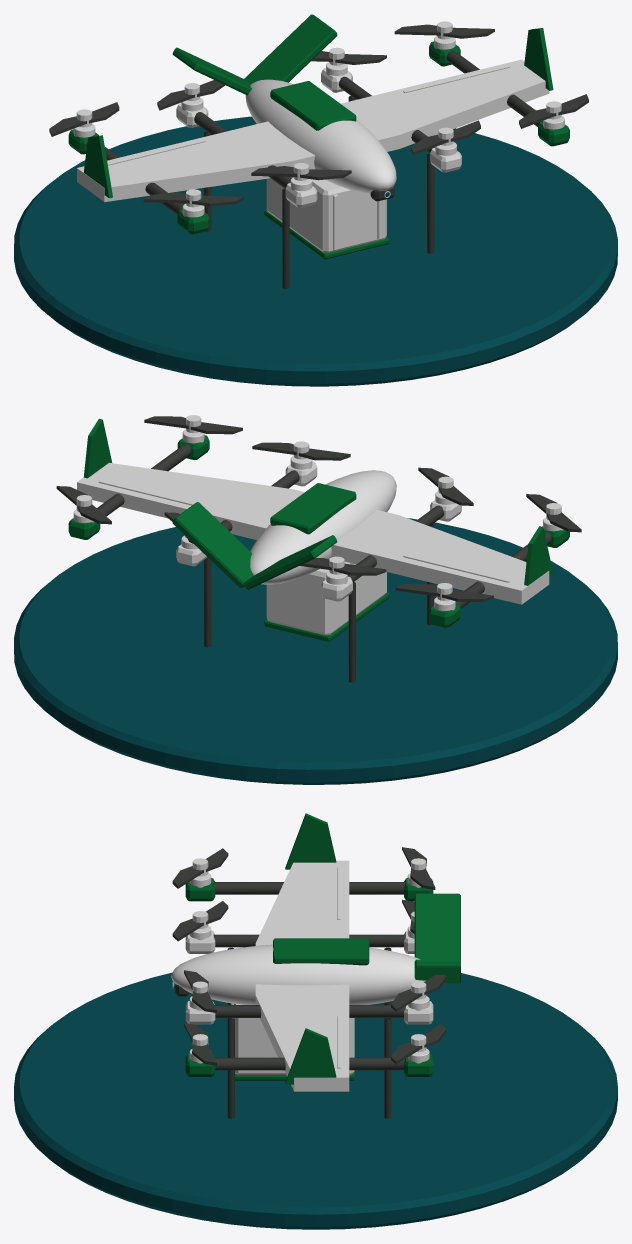
File: wingcopter-198.glb
The picture shows the model from 3 angles, top to bottom: view 1: azimuth 30°, elevation 25°; view 2: azimuth 150°, elevation 25°; view 3: azimuth 270°, elevation 25°; orthographic projection.
Visible parts, largest first — view 1: pedestal, body; view 2: pedestal, body; view 3: pedestal, body.
Boxes of the visible parts, x1,y1,x2,y2 form: pedestal: (14, 116, 617, 386); body: (49, 14, 588, 288); pedestal: (14, 518, 617, 784); body: (56, 415, 581, 682); pedestal: (14, 972, 617, 1229); body: (171, 813, 460, 1118).
Size of the model in its own units: 4.4 by 1.47 by 4.4.
